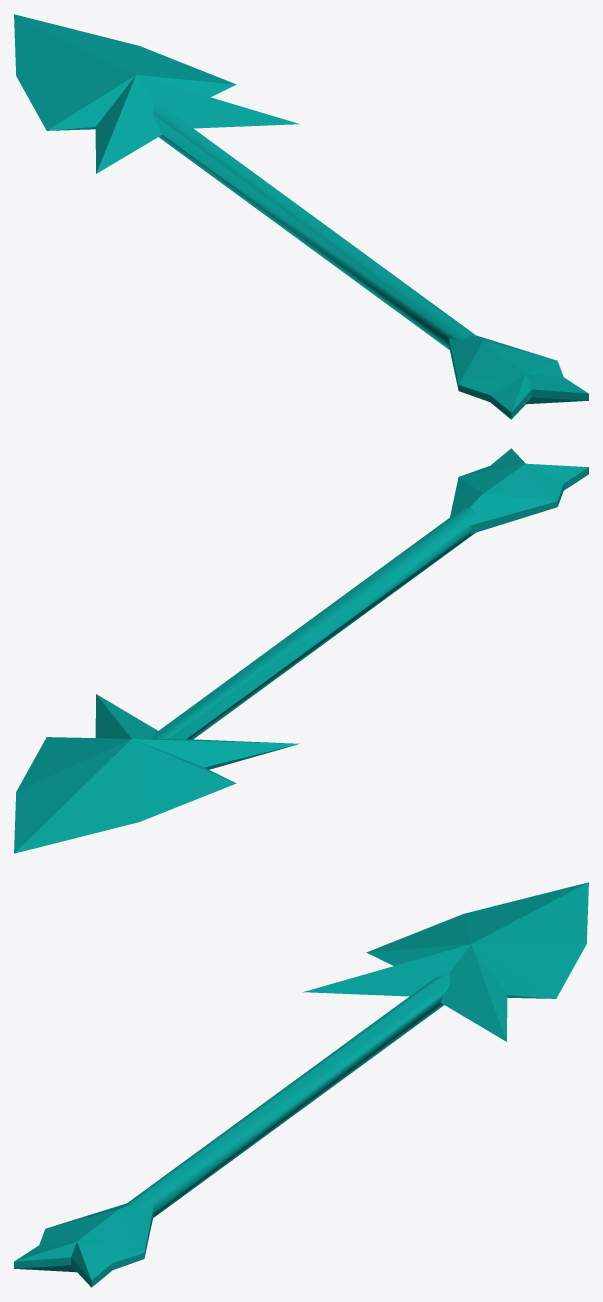
File: Arrow.fbx
3 renders of one model, top to bottom at view 1: azimuth 30°, elevation 25°; view 2: azimuth 150°, elevation 25°; view 3: azimuth 330°, elevation 25°, orthographic.
Parts seen in each view (by area): view 1: Arrow; view 2: Arrow; view 3: Arrow.
Boxes of the visible parts, x1=… form: Arrow: x1=14, y1=14, x2=588, y2=419; Arrow: x1=14, y1=448, x2=588, y2=853; Arrow: x1=14, y1=882, x2=588, y2=1287.
Bounding box in the file's own units: 366 × 90.56 × 1662.
